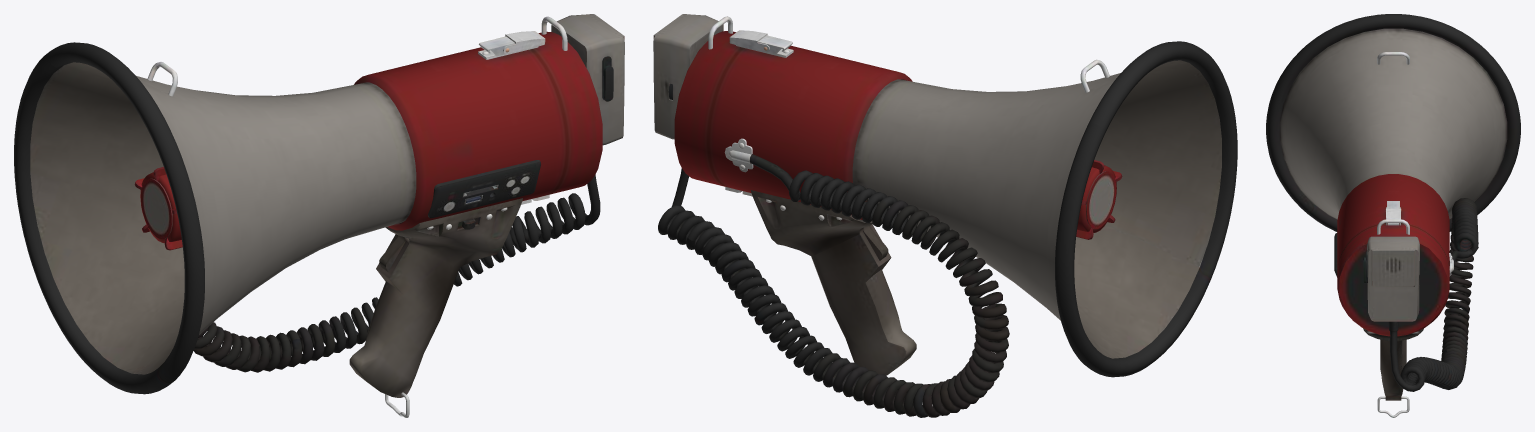
The model's file is Megaphone_01.glb.
The picture shows the model from 3 angles, left to right: view 1: azimuth 30°, elevation 25°; view 2: azimuth 150°, elevation 25°; view 3: azimuth 270°, elevation 25°; orthographic projection. The views are drawn at different scales.
Visible parts, largest first — view 1: Polsen MP-25 LP; view 2: Polsen MP-25 LP; view 3: Polsen MP-25 LP.
Part boxes in pixels (<box>): Polsen MP-25 LP: <box>14,14,624,417</box>; Polsen MP-25 LP: <box>653,14,1237,417</box>; Polsen MP-25 LP: <box>1266,14,1520,417</box>.
Bounding box in the file's own units: 0.3707 × 0.3001 × 0.2285.
Materials: 1 (1 with a texture image).
